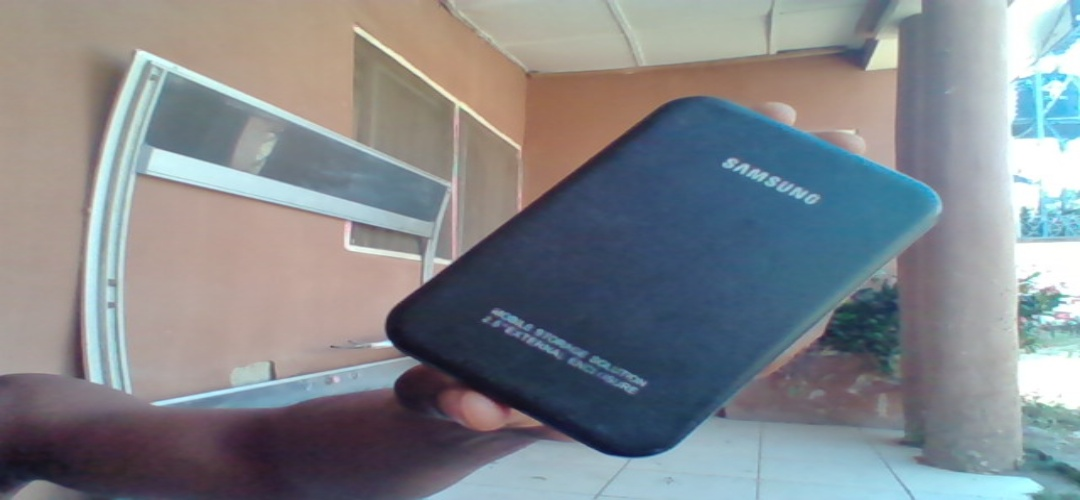hard_disk_case: (358, 48, 966, 462)
